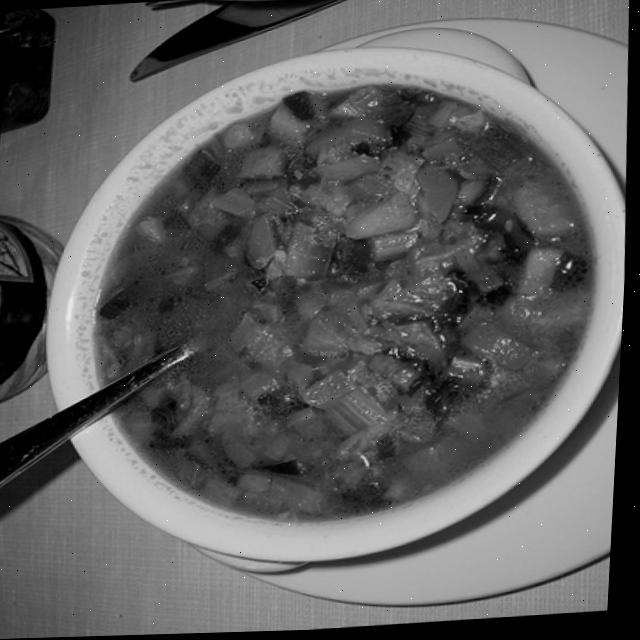汤锅炖物: (21, 28, 635, 587)
